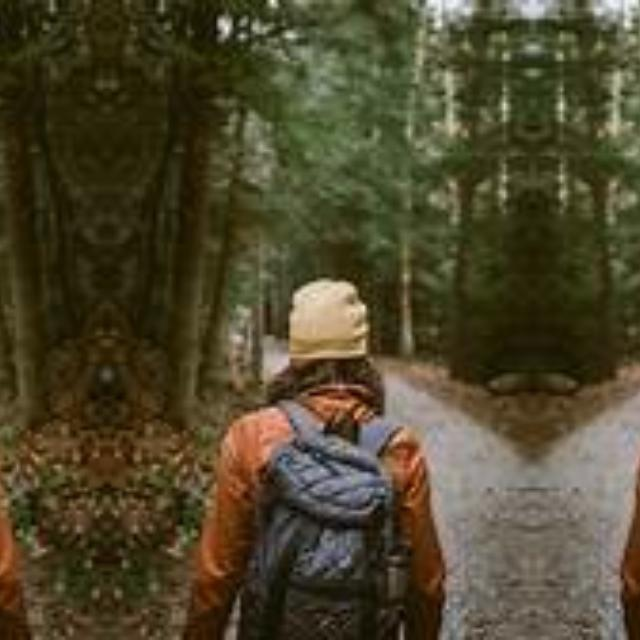person: (186, 275, 469, 640), (595, 275, 640, 640), (0, 275, 25, 640)
